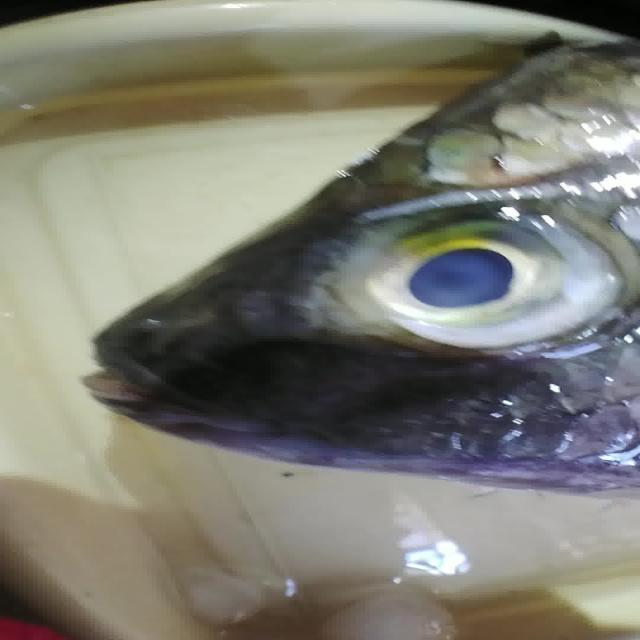Fresh: (356, 206, 606, 361)
